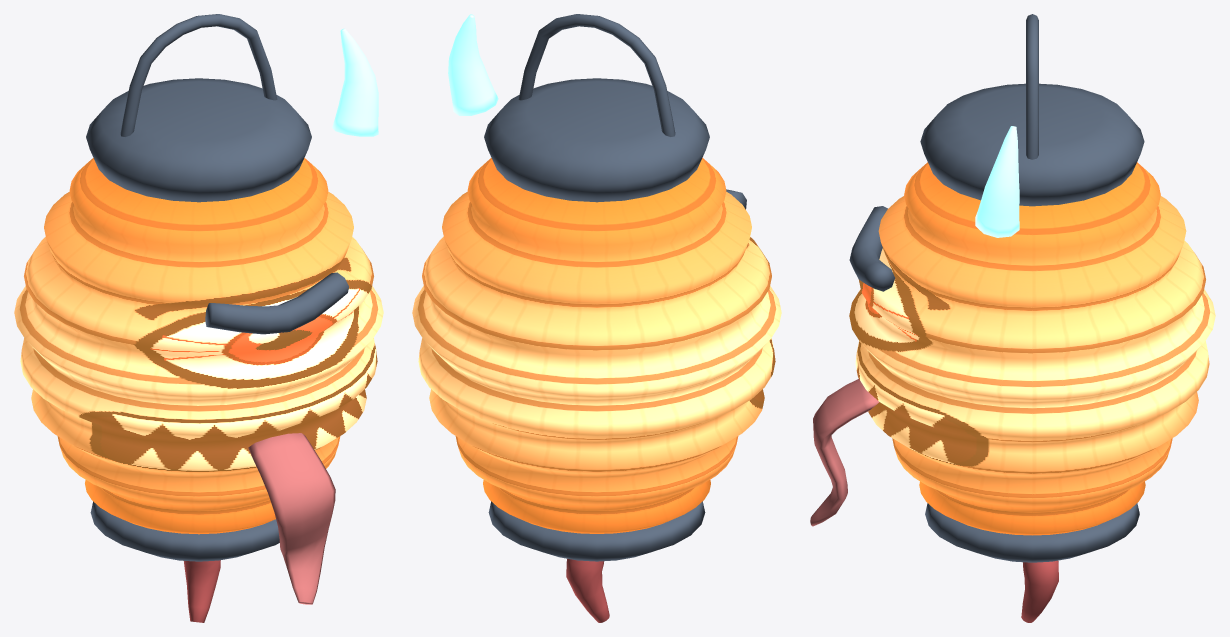
Rendered from enemy_chochin.glb.
3 renders of one model, left to right at view 1: azimuth 30°, elevation 25°; view 2: azimuth 150°, elevation 25°; view 3: azimuth 270°, elevation 25°, orthographic.
Parts seen in each view (by area): view 1: ChochinMesh, TongueMesh; view 2: ChochinMesh; view 3: ChochinMesh, TongueMesh.
Part boxes in pixels (x1,y1,x2,y2): ChochinMesh: (14,14,383,622); TongueMesh: (248,433,335,604); ChochinMesh: (412,14,781,622); ChochinMesh: (849,14,1215,622); TongueMesh: (810,379,878,526).
Bounding box in the file's own units: 1.58 × 2.84 × 1.74.
5 materials, 1 textured.
